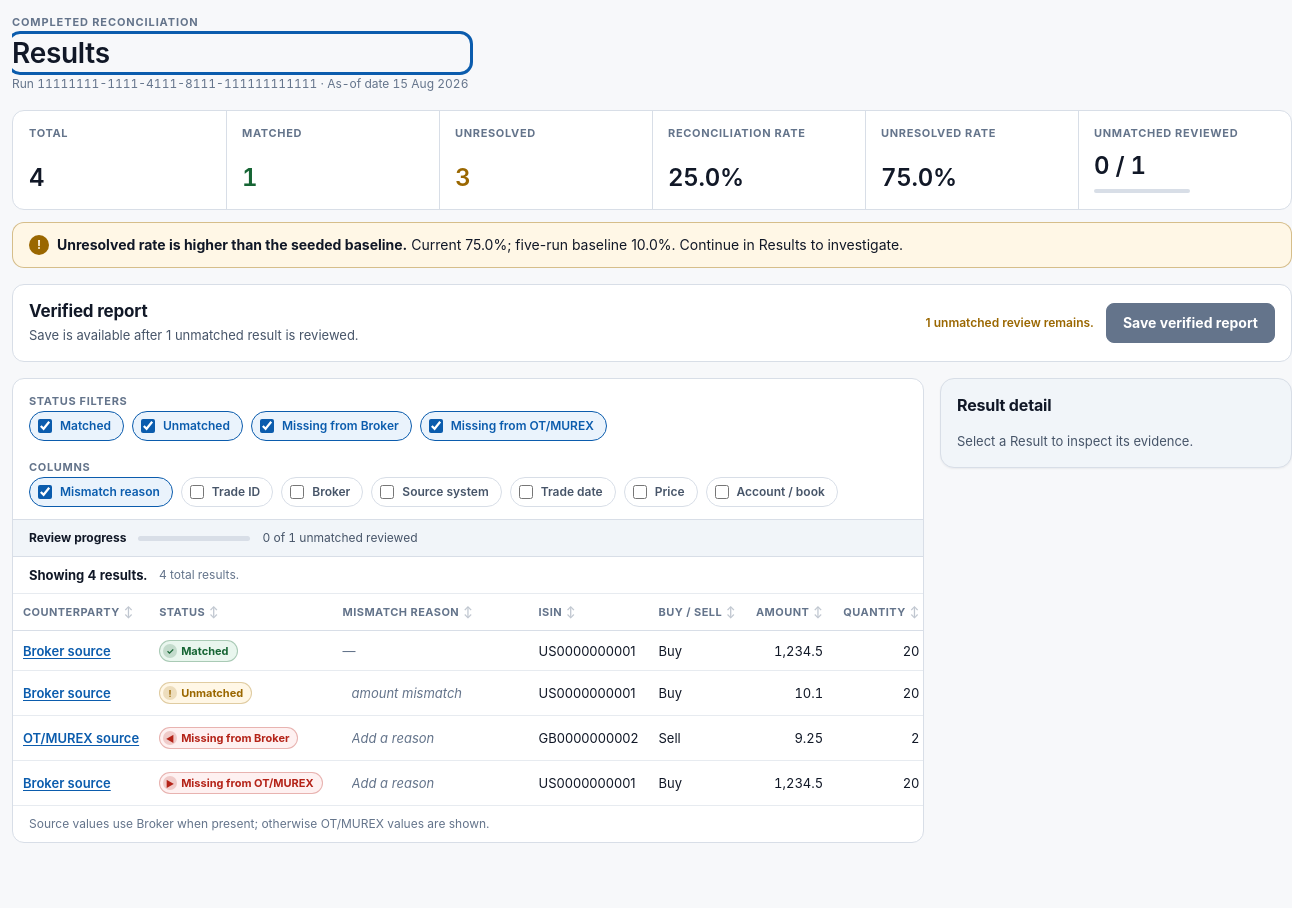
Test case: Results workspace table › inspects paired and missing-side evidence and replaces review state only after main confirms it
Click the button with aria-label "Select BRK-8": [67, 693] box [23,683,111,703]
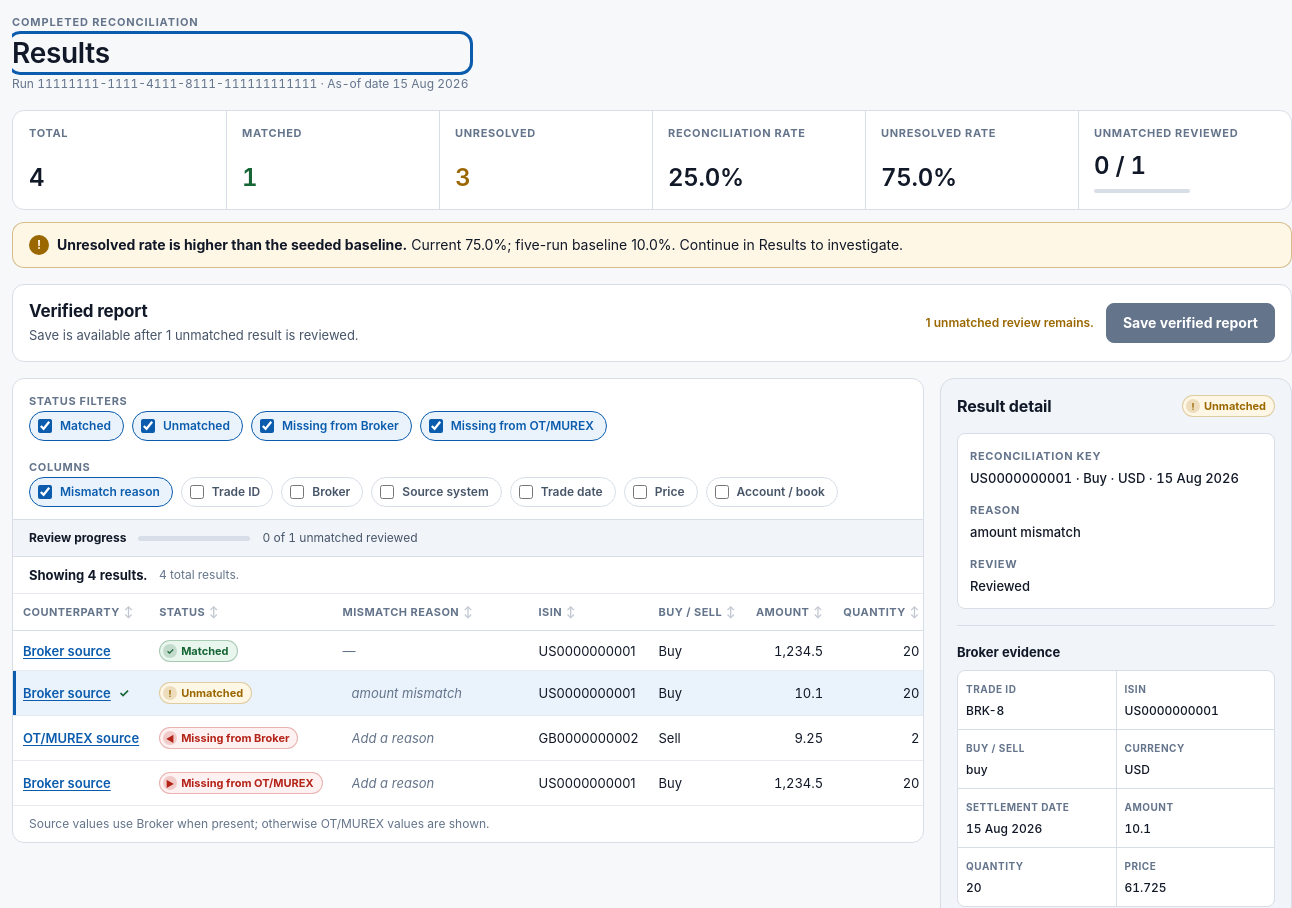
Expected: the text "Reconciliation key" is shown, [970,449,1101,463]
Expected: the heading "Broker evidence" is shown, [957,644,1060,660]
Expected: the text "amount mismatch" is shown, [970,524,1081,540]
Click the button with aria-label "Select OT-9": [81, 738] box [23,728,139,748]
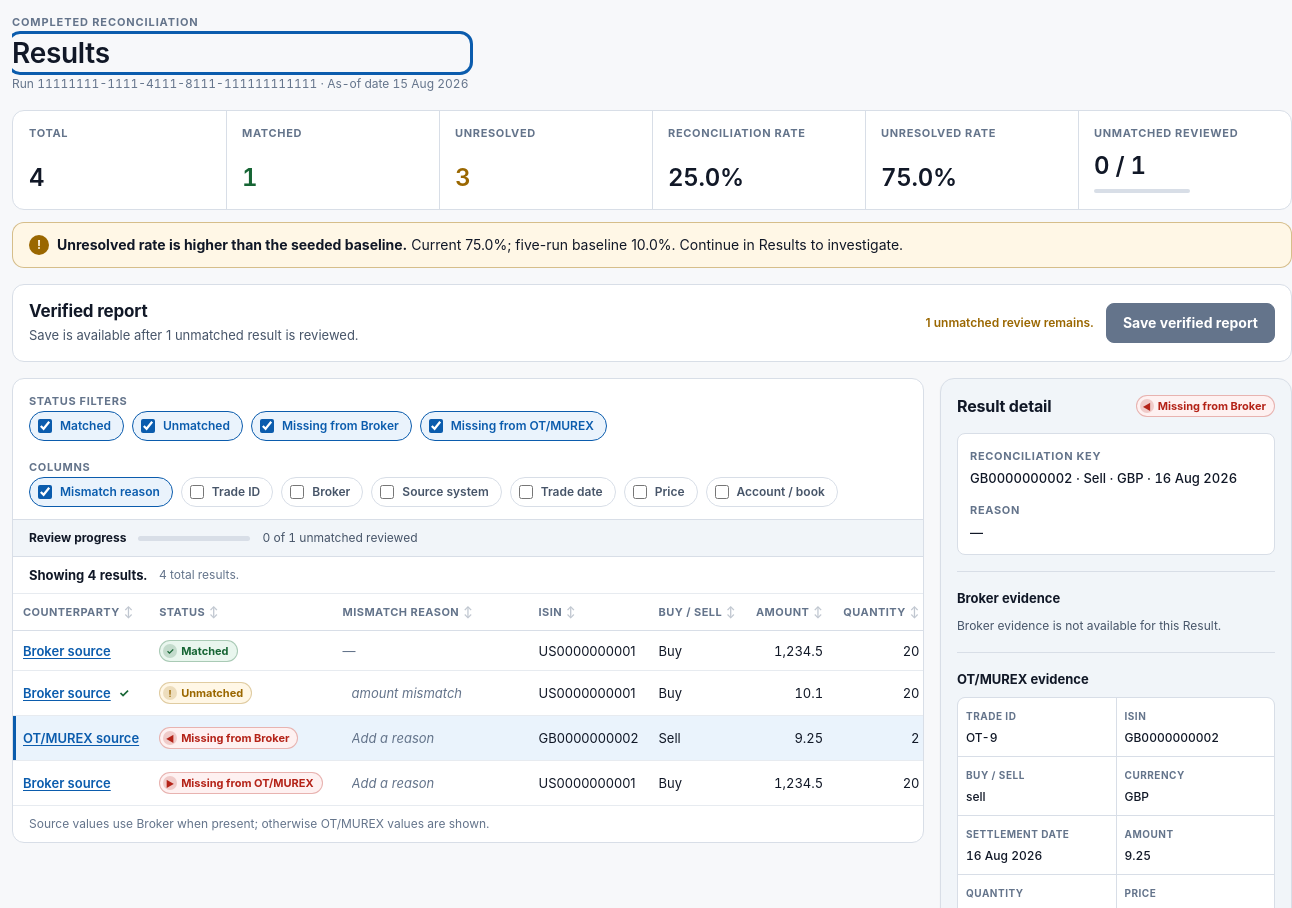
Expected: the text "Broker evidence is not available for this Result." is shown, [957,618,1221,633]
